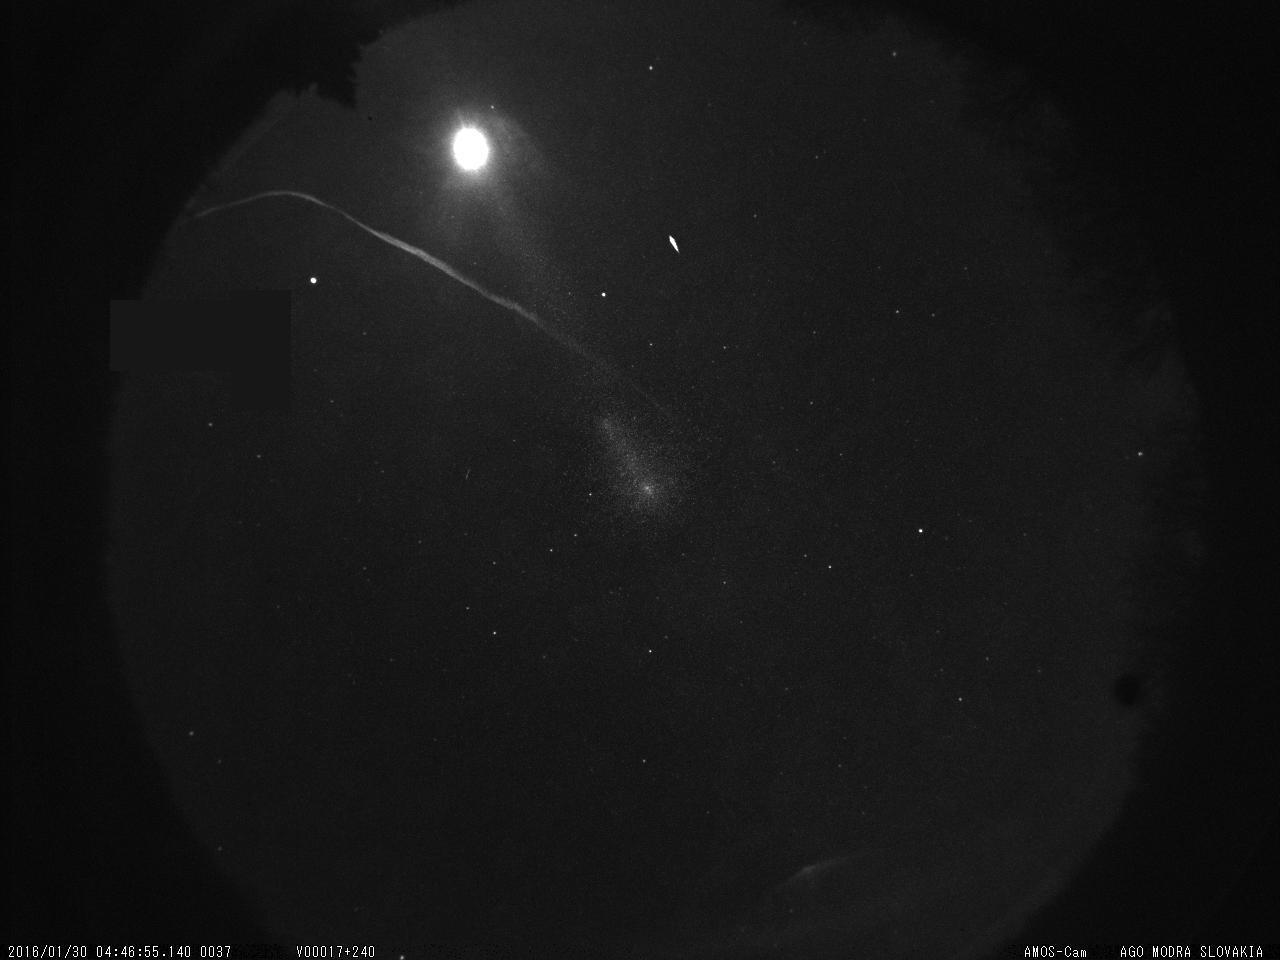meteor: (658, 228, 690, 266)
